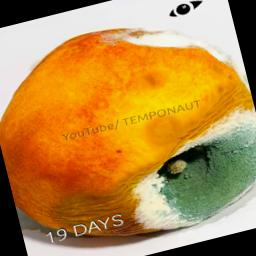Peach Rotten: (0, 0, 256, 253)
